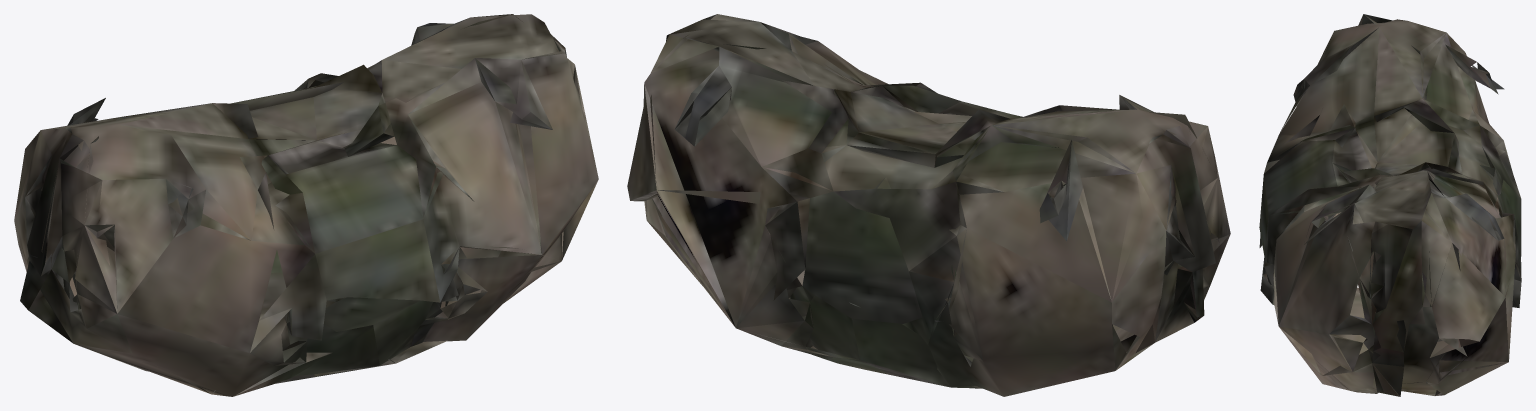
The model's file is sandbags_1146231213_lod0m.glb.
The picture shows the model from 3 angles, left to right: view 1: azimuth 30°, elevation 25°; view 2: azimuth 150°, elevation 25°; view 3: azimuth 270°, elevation 25°; orthographic projection. The views are drawn at different scales.
Bounding box in the file's own units: 2.56 × 1.31 × 1.27.
1 material, 1 textured.
